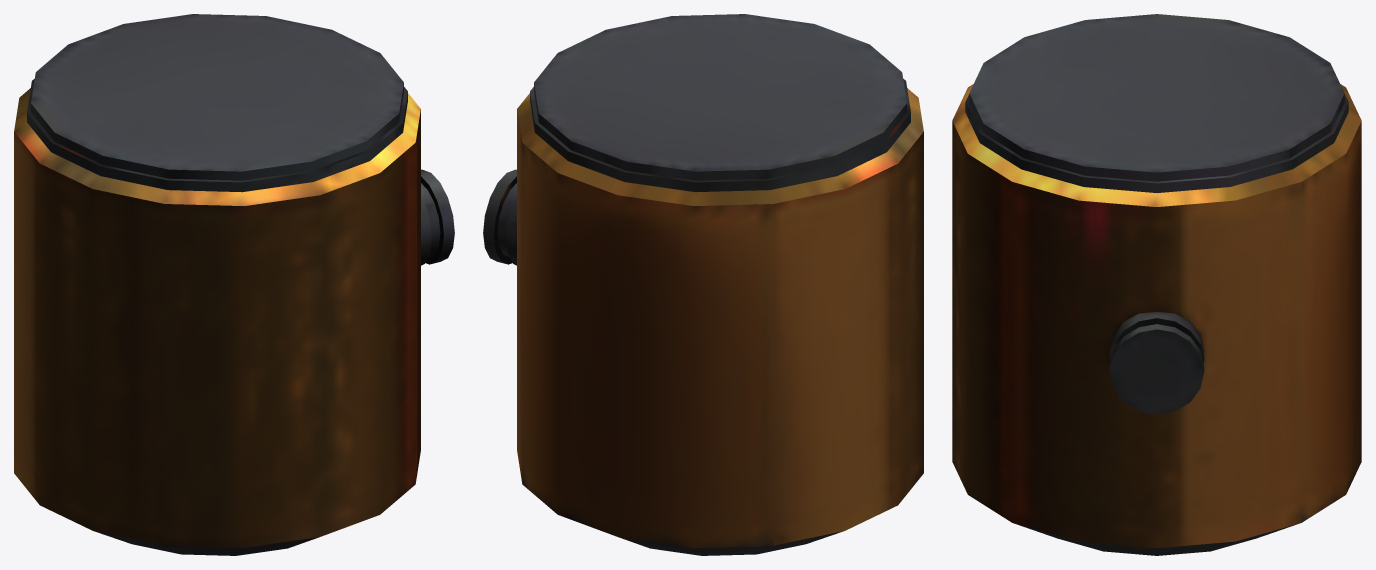
The model's file is taron_switch.obj.
3 renders of one model, left to right at view 1: azimuth 30°, elevation 25°; view 2: azimuth 150°, elevation 25°; view 3: azimuth 270°, elevation 25°, orthographic.
Parts seen in each view (by area): view 1: Circle.003; view 2: Circle.003; view 3: Circle.003.
Part boxes in pixels (left/top/right/bottom): Circle.003: left=14, top=14, right=454, bottom=555; Circle.003: left=483, top=14, right=923, bottom=555; Circle.003: left=952, top=14, right=1361, bottom=555.
Bounding box in the file's own units: 0.1516 × 0.1496 × 0.1376.
